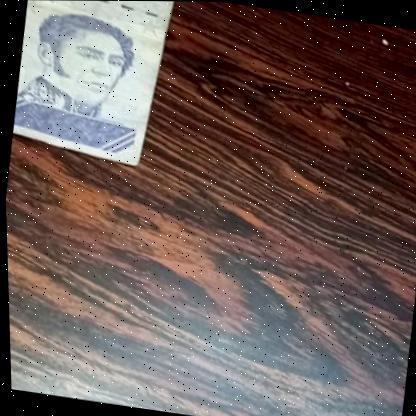ten-front-vef: (6, 0, 187, 169)
